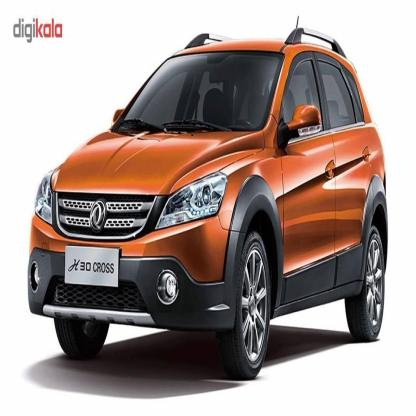Car: (11, 23, 396, 394)
